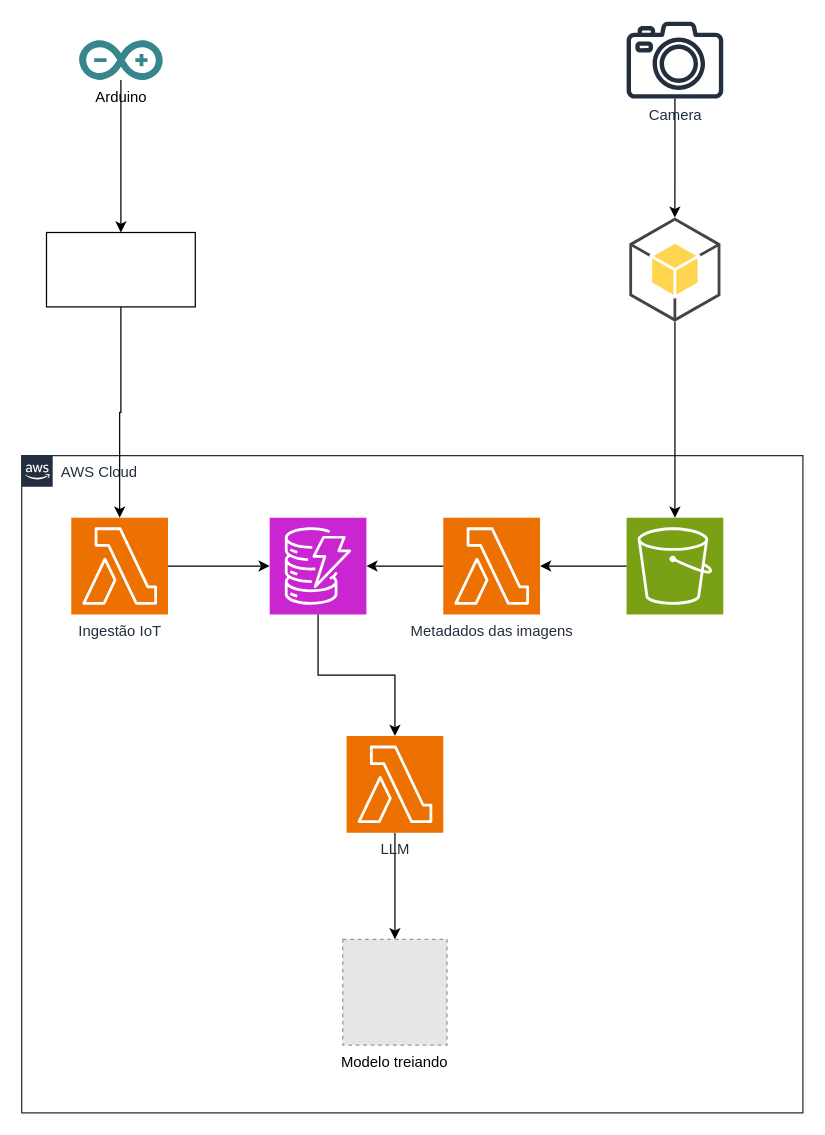
This 825x1135 diagram has some shape labels left out. Grey dashed boxes stand in for pictures. Here are the shapes that lost their labels. From the top down, the centre of each, then its label:
At (x=120, y=269): "Hub MQTT".
At (x=674, y=269): "Ingestão das imagens".
At (x=317, y=565): "DynamoDb".
At (x=674, y=565): "Bucket de imagens".
